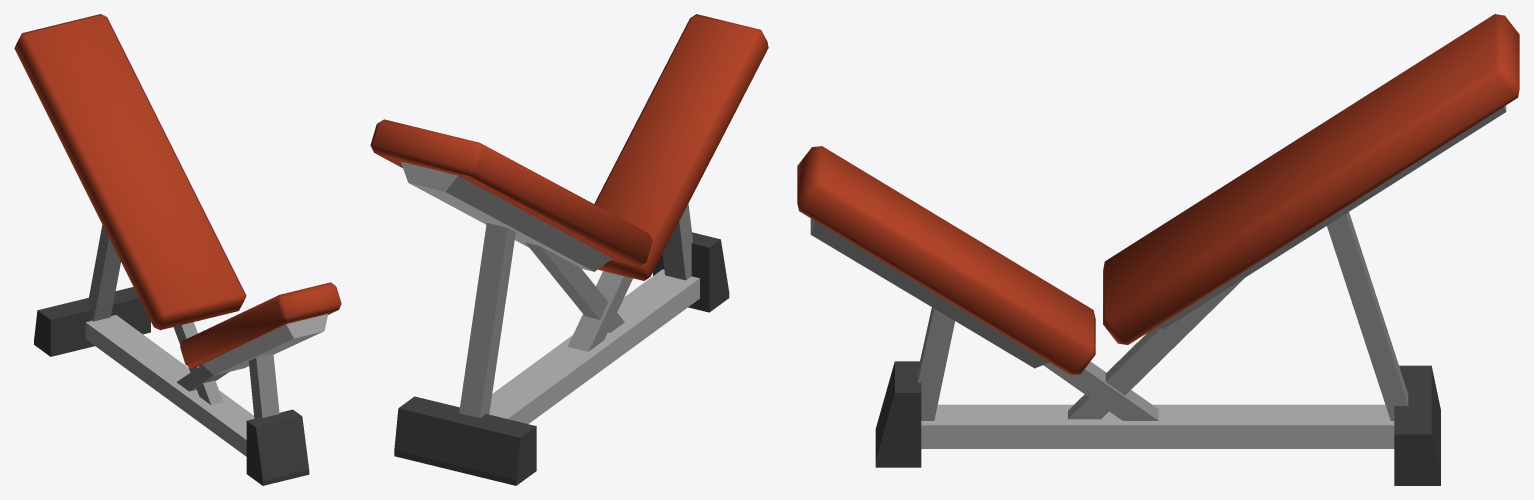
File: Bench_D.fbx
The picture shows the model from 3 angles, left to right: view 1: azimuth 30°, elevation 25°; view 2: azimuth 150°, elevation 25°; view 3: azimuth 270°, elevation 25°; orthographic projection. The views are drawn at different scales.
Visible parts, largest first — view 1: Bench_D; view 2: Bench_D; view 3: Bench_D.
Part boxes in pixels (x1=…): Bench_D: x1=14, y1=14, x2=341, y2=485; Bench_D: x1=370, y1=14, x2=768, y2=485; Bench_D: x1=797, y1=14, x2=1519, y2=485.
Bounding box in the file's own units: 40.28 × 113 × 180.
